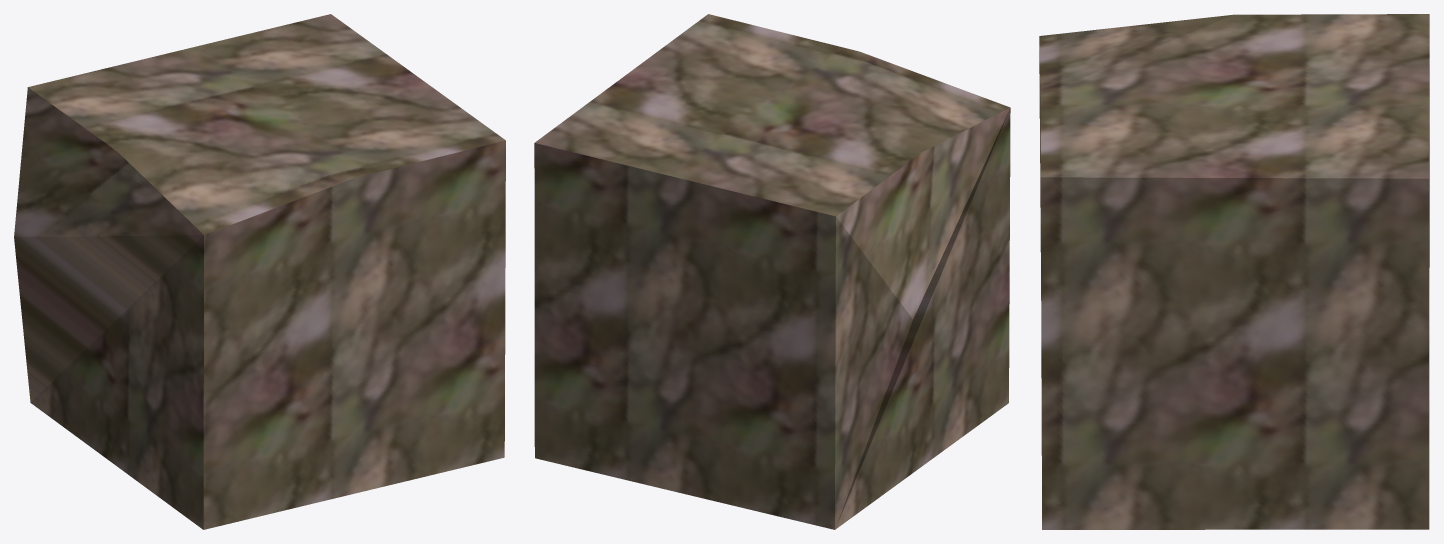
Rendered from Island_1_FlBlock_1.gltf.
3 views of the same model, side by side, from view 1: azimuth 30°, elevation 25°; view 2: azimuth 150°, elevation 25°; view 3: azimuth 270°, elevation 25° (orthographic). The views are drawn at different scales.
Parts seen in each view (by area): view 1: Island_1_FlBlock_1; view 2: Island_1_FlBlock_1; view 3: Island_1_FlBlock_1.
Boxes of the visible parts, box(x1,y1,x2,y2) form: Island_1_FlBlock_1: box(14, 14, 505, 529); Island_1_FlBlock_1: box(534, 14, 1010, 529); Island_1_FlBlock_1: box(1039, 14, 1429, 529).
Bounding box in the file's own units: 3.31 × 2.88 × 2.89.
1 material, 1 textured.
